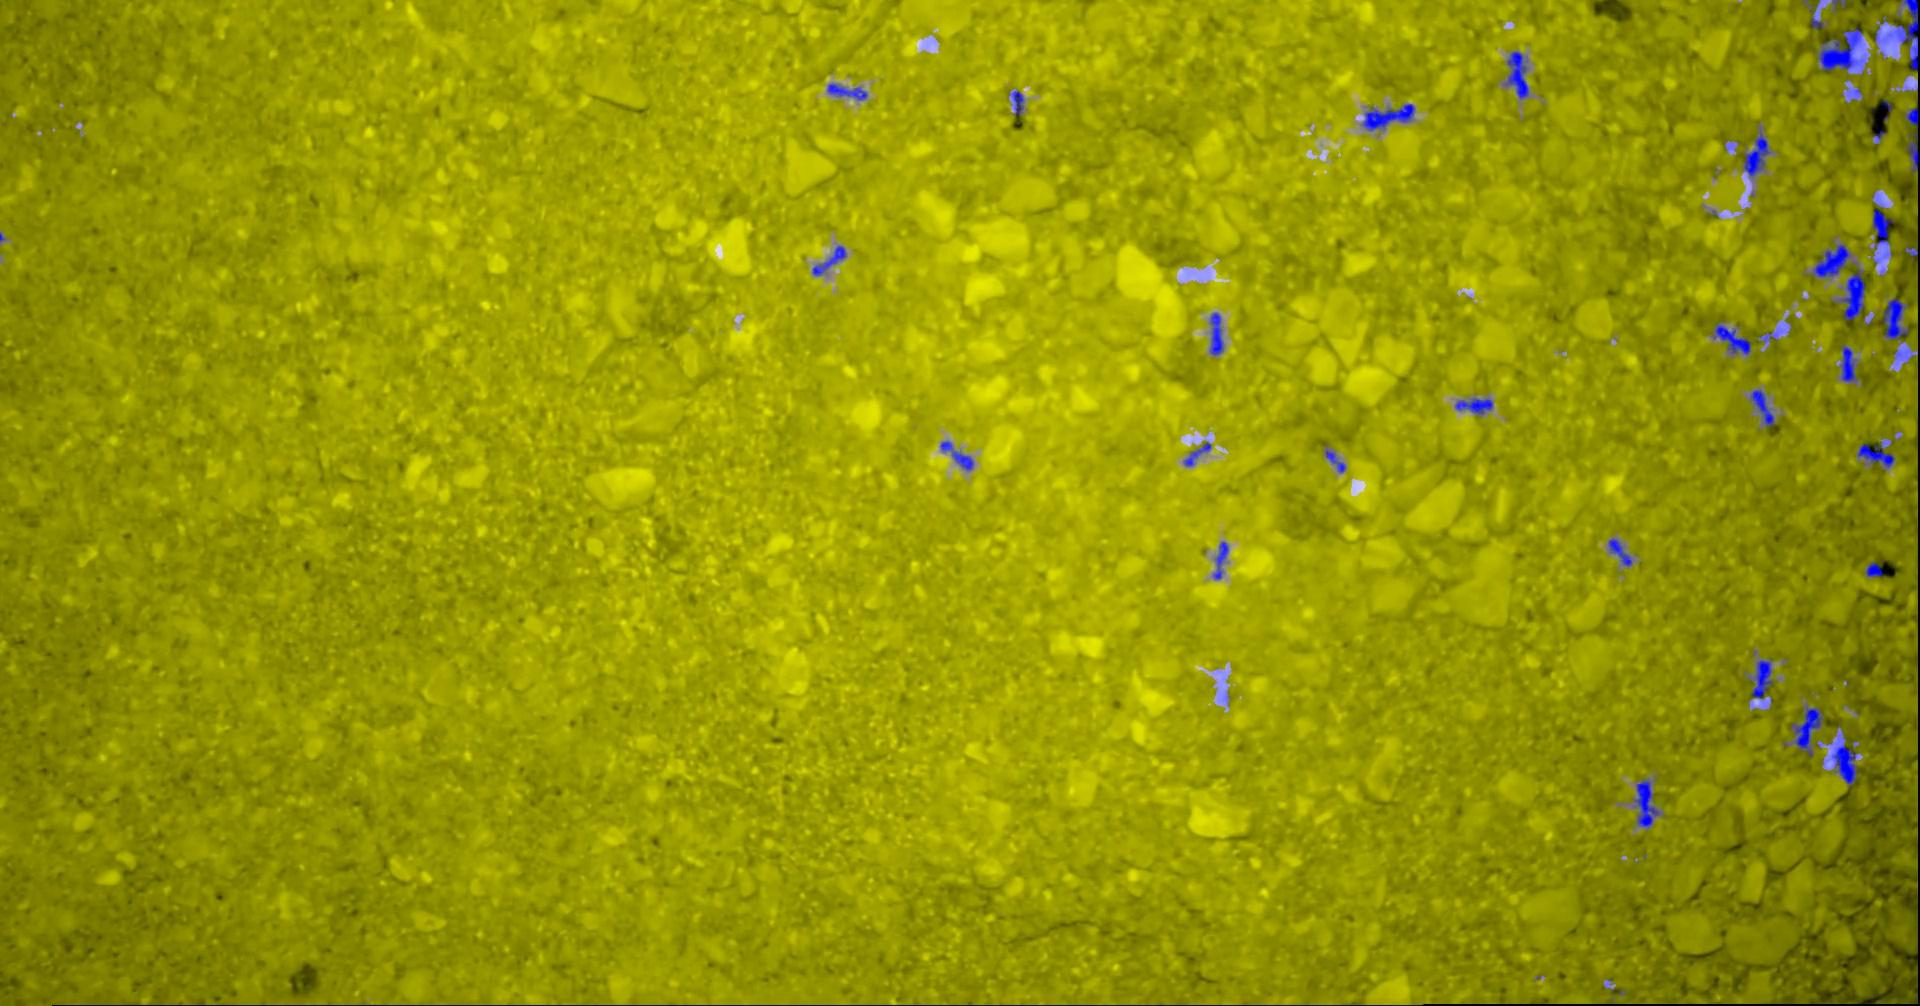ant: (1890, 0, 1920, 69), (1820, 28, 1864, 70), (1793, 706, 1823, 754), (1364, 103, 1416, 130), (1832, 735, 1859, 785), (1841, 267, 1865, 320), (1813, 244, 1851, 277), (1636, 779, 1661, 827), (1745, 131, 1771, 177), (1716, 323, 1752, 354), (1509, 51, 1530, 98), (814, 245, 847, 276), (942, 439, 975, 470), (1859, 441, 1896, 467), (1884, 298, 1909, 339), (1752, 659, 1775, 699), (1752, 389, 1777, 426), (1874, 206, 1895, 248), (829, 83, 869, 99), (1185, 441, 1211, 465), (1610, 539, 1633, 567), (1457, 398, 1495, 414), (1214, 541, 1230, 579), (1843, 345, 1859, 381), (1211, 312, 1225, 354), (1907, 132, 1920, 171), (1327, 448, 1347, 473), (1811, 4, 1825, 28), (1013, 90, 1025, 116), (1867, 561, 1884, 575), (1907, 108, 1920, 124)
